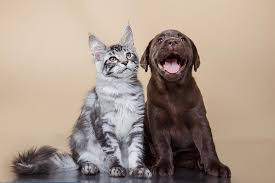cat: (84, 24, 142, 85)
dog: (141, 26, 204, 83)
